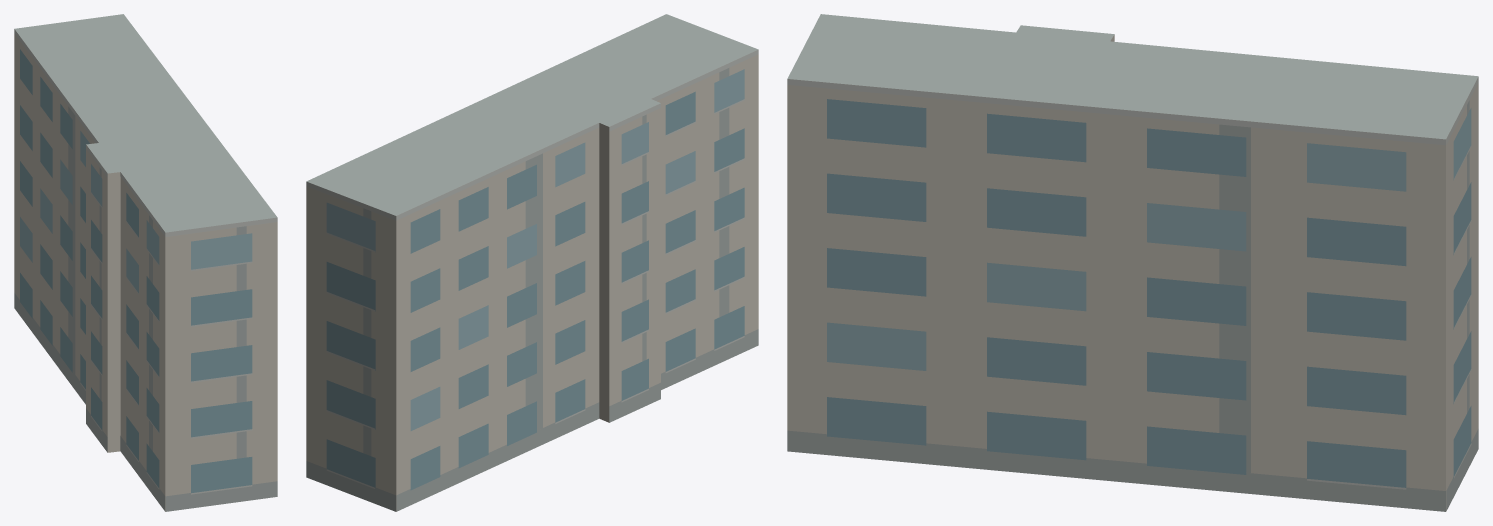
Rendered from survey-upis-33043695.glb.
3 renders of one model, left to right at view 1: azimuth 30°, elevation 25°; view 2: azimuth 150°, elevation 25°; view 3: azimuth 270°, elevation 25°, orthographic. The views are drawn at different scales.
Visible parts, largest first — view 1: survey-upis-33043695.tmp; view 2: survey-upis-33043695.tmp; view 3: survey-upis-33043695.tmp.
Part boxes in pixels (left/top/right/bottom): survey-upis-33043695.tmp: left=14, top=14, right=277, bottom=511; survey-upis-33043695.tmp: left=306, top=14, right=758, bottom=511; survey-upis-33043695.tmp: left=787, top=14, right=1478, bottom=511.
Bounding box in the file's own units: 11.02 × 15.25 × 25.66.
